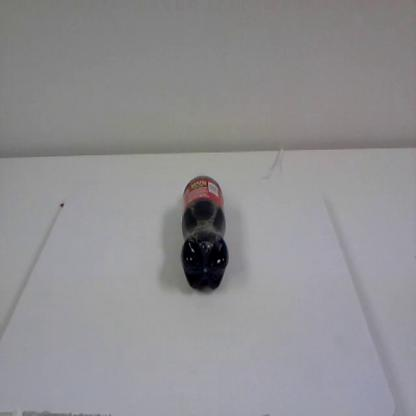bottle: (180, 171, 230, 293)
